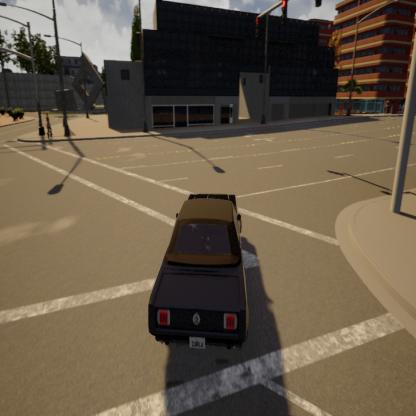Cars: (143, 168, 255, 354)
Pedestrian: (43, 106, 58, 143)
